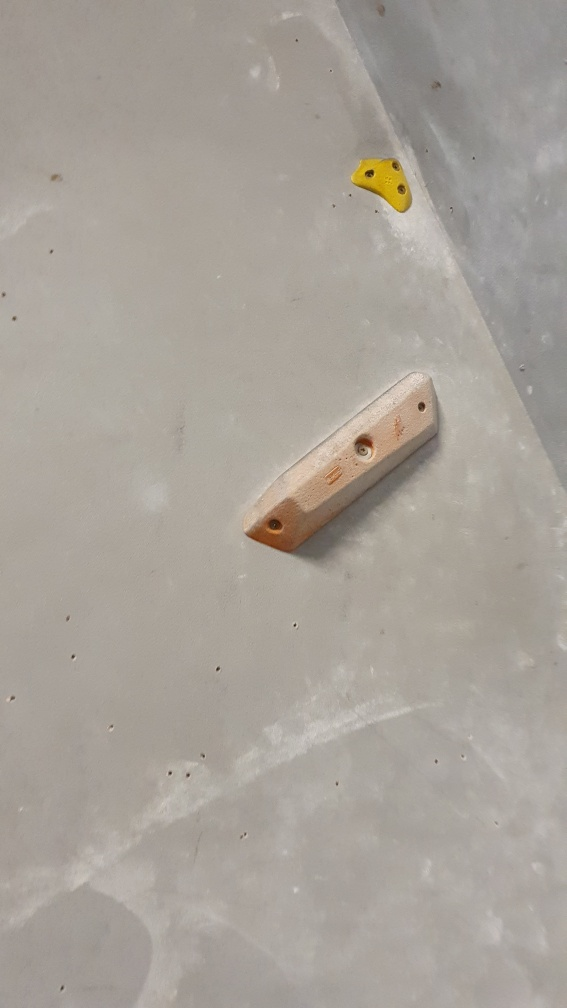Pinch: (239, 370, 443, 566)
